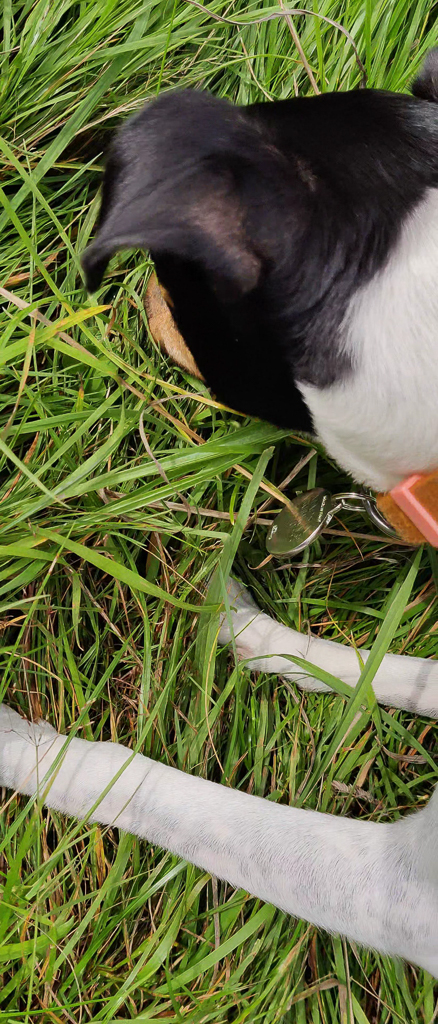Dog: (0, 32, 438, 991)
